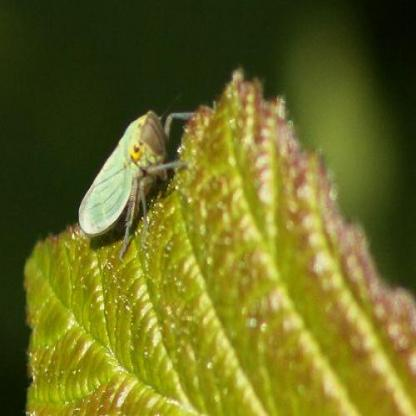Green-Leafhopper: (75, 105, 197, 261)
